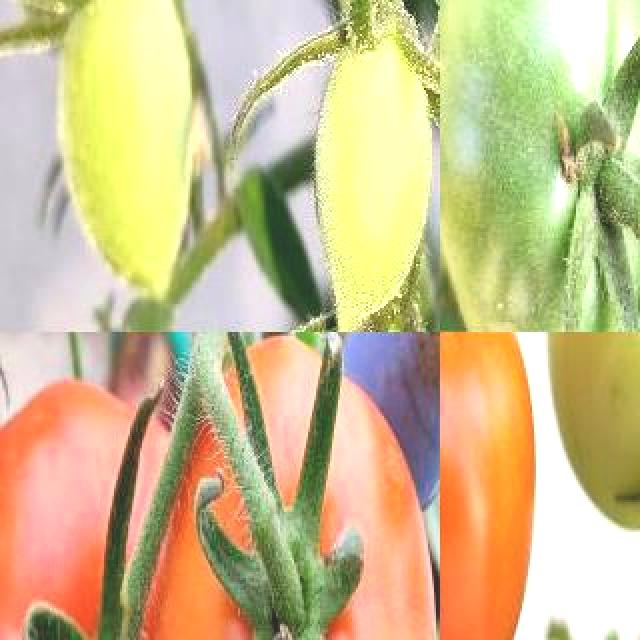Fresh_Tomato: (148, 336, 440, 640), (0, 378, 180, 640), (440, 332, 568, 640)
